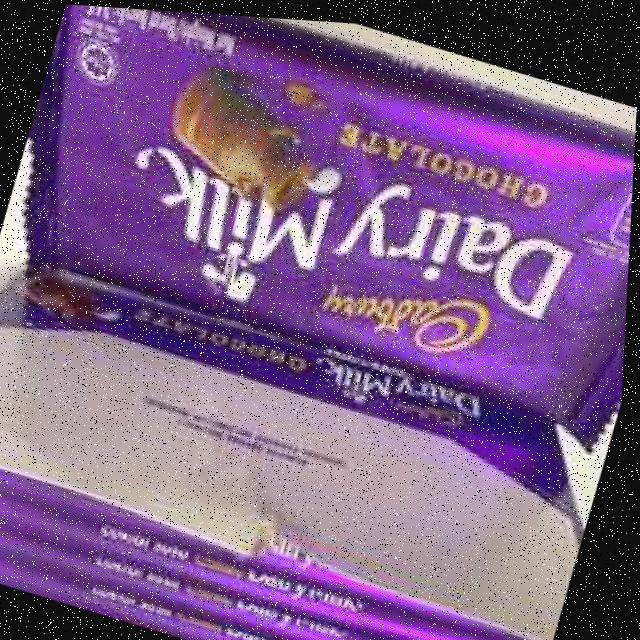cadbury_chocolate: (73, 27, 622, 463)
